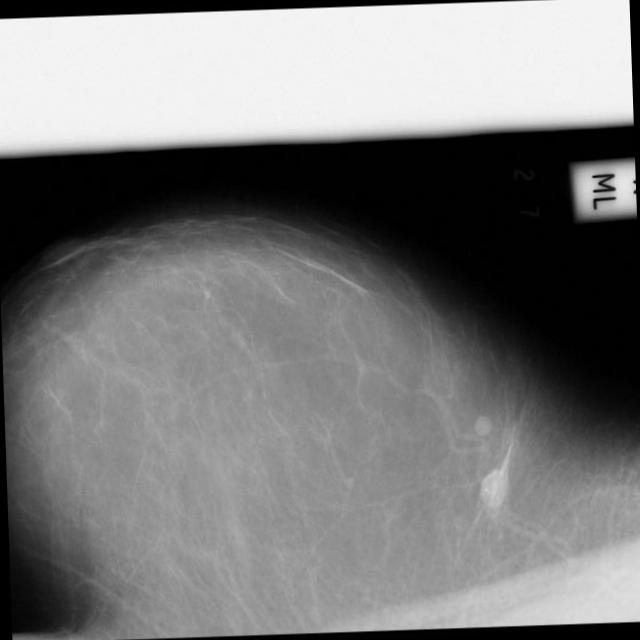CIRC: (464, 443, 532, 510)
